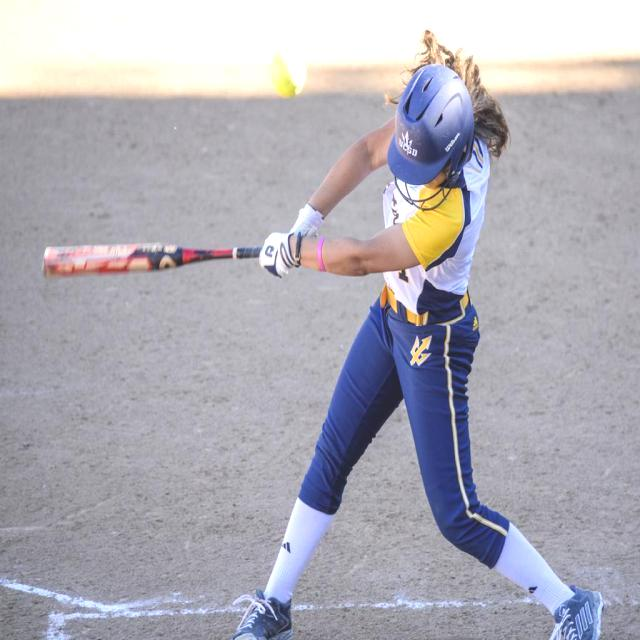baseball bat: (42, 243, 260, 277)
sports ball: (268, 48, 308, 98)
